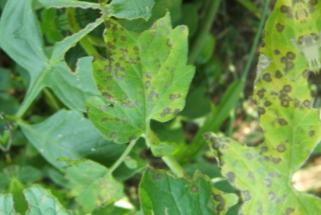Tomato Septoria leaf spot: (173, 0, 321, 201), (58, 0, 217, 154)
